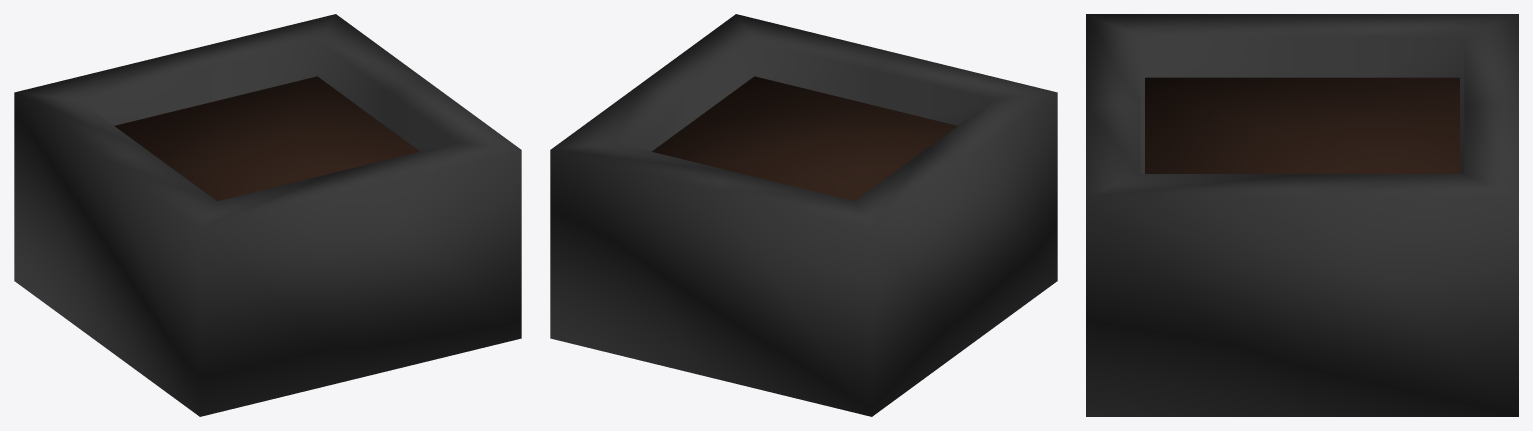
Rendered from farm.fbx.
3 renders of one model, left to right at view 1: azimuth 30°, elevation 25°; view 2: azimuth 150°, elevation 25°; view 3: azimuth 270°, elevation 25°, orthographic. The views are drawn at different scales.
Parts seen in each view (by area): view 1: Cube; view 2: Cube; view 3: Cube.
Boxes of the visible parts, x1=… form: Cube: x1=14, y1=14, x2=521, y2=416; Cube: x1=550, y1=14, x2=1057, y2=416; Cube: x1=1086, y1=14, x2=1518, y2=416.
Bounding box in the file's own units: 83.96 × 83.96 × 47.08.
